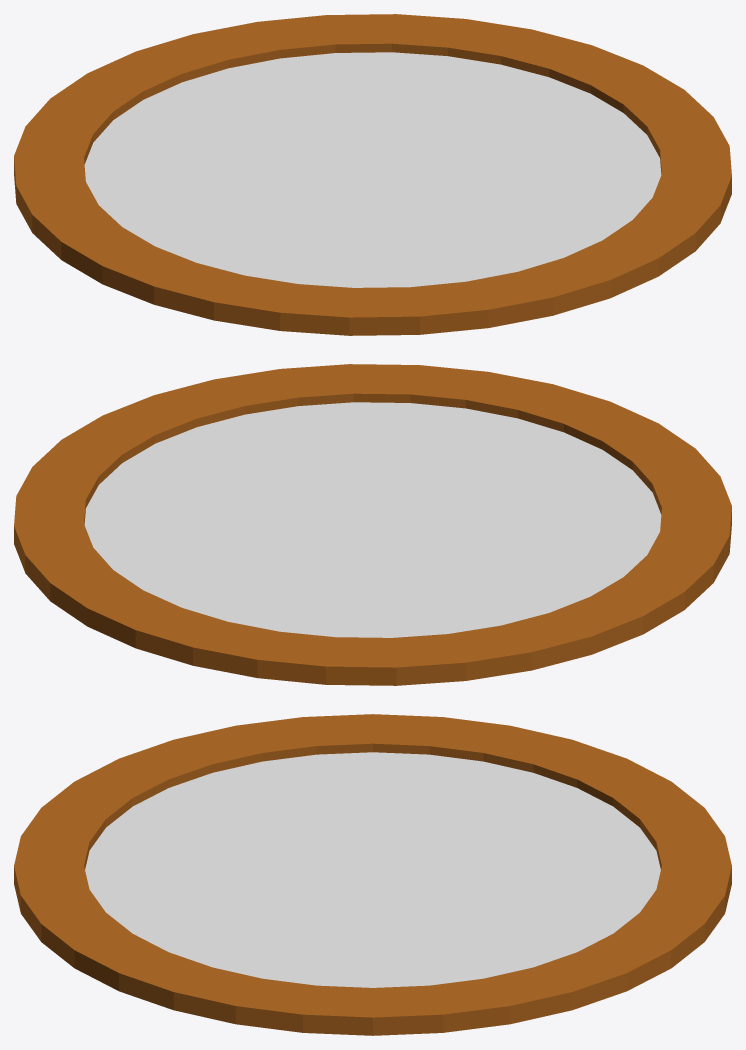
The model's file is 202002_copper_coin.fbx.
3 renders of one model, top to bottom at view 1: azimuth 30°, elevation 25°; view 2: azimuth 150°, elevation 25°; view 3: azimuth 270°, elevation 25°, orthographic.
Parts seen in each view (by area): view 1: Cylinder, Cylinder.001; view 2: Cylinder, Cylinder.001; view 3: Cylinder, Cylinder.001.
Part boxes in pixels (x1,y1,x2,y2): Cylinder: (84, 52, 661, 287); Cylinder.001: (14, 14, 731, 335); Cylinder: (84, 402, 661, 637); Cylinder.001: (14, 364, 731, 685); Cylinder: (85, 752, 660, 987); Cylinder.001: (14, 714, 731, 1035).
Size of the model in its own units: 248 by 6.98 by 248.
